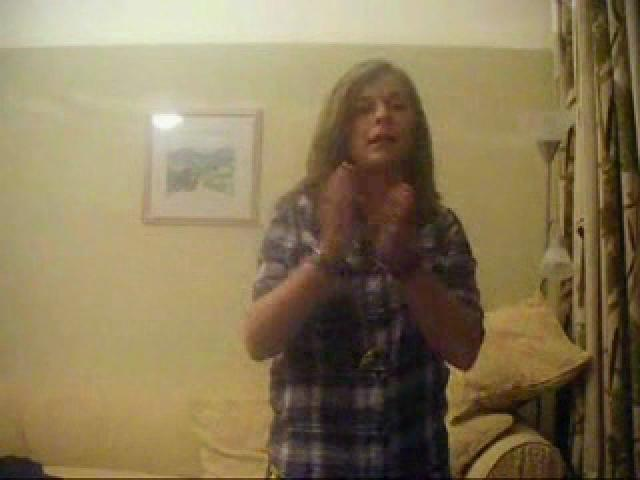F: (250, 60, 485, 480)
